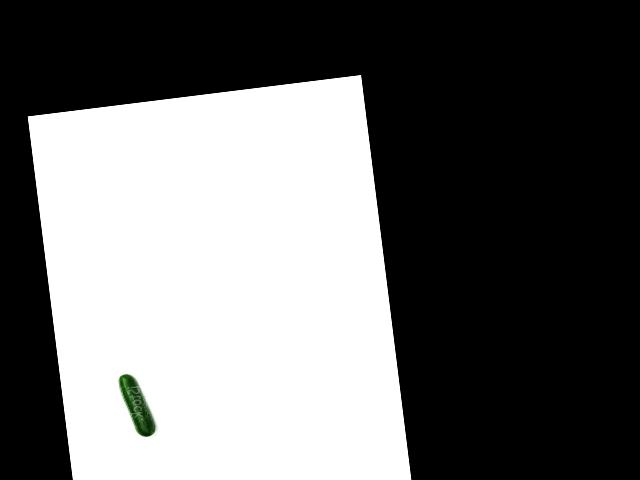cucumber: (118, 371, 156, 439)
